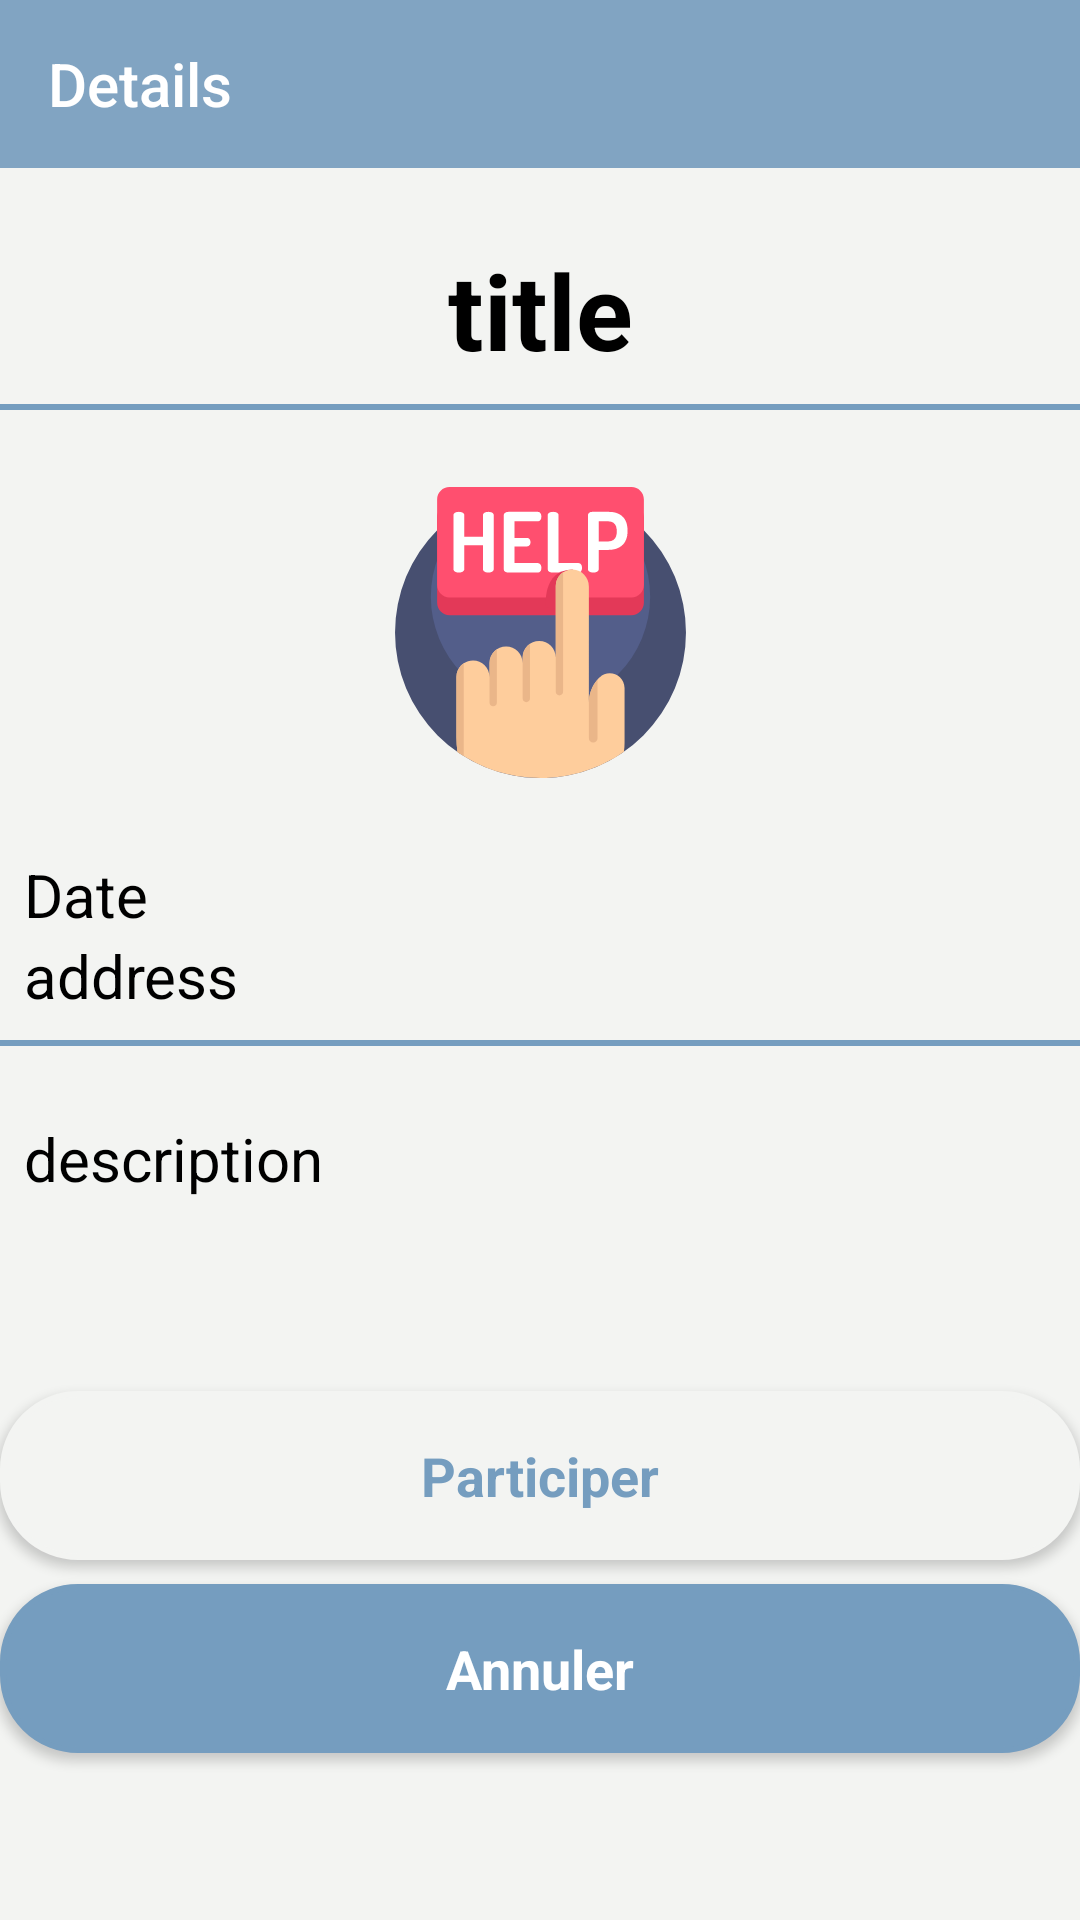

Where to tap for icons on this 1080 × 1920 app screen, as (x=x, y=y):
requests: (x=540, y=632)
